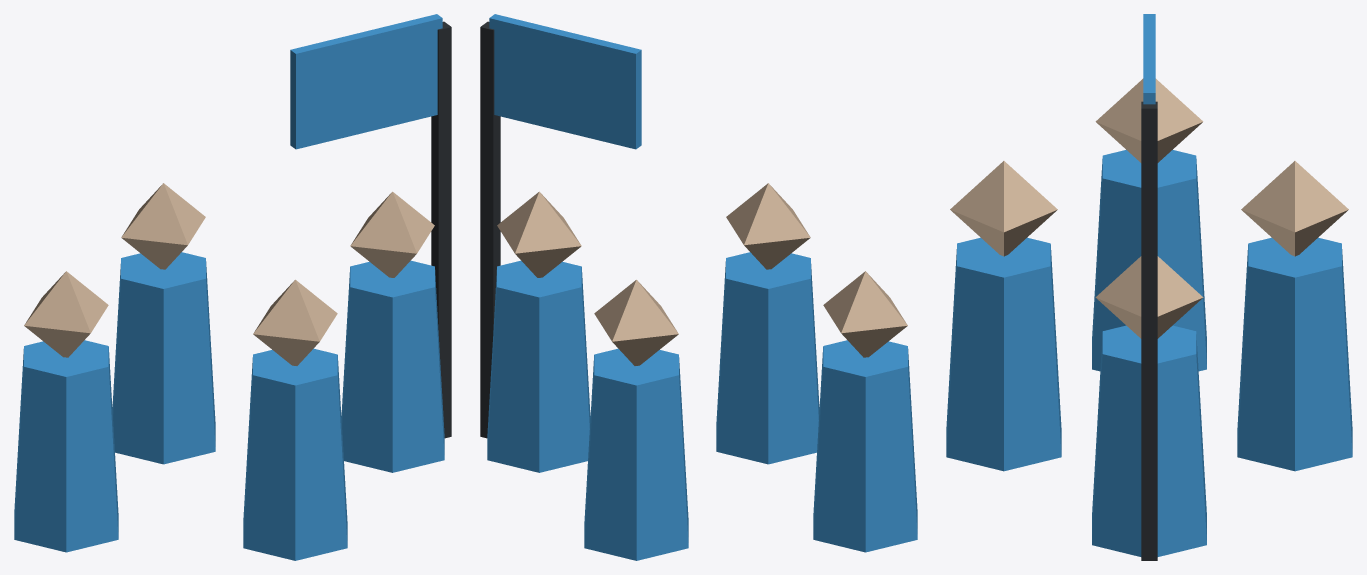
File: troop.glb
3 views of the same model, side by side, from view 1: azimuth 30°, elevation 25°; view 2: azimuth 150°, elevation 25°; view 3: azimuth 270°, elevation 25° (orthographic). The views are drawn at different scales.
Parts seen in each view (by area): view 1: troop; view 2: troop; view 3: troop.
Boxes of the visible parts, x1=… form: troop: x1=14, y1=14, x2=451, y2=560; troop: x1=480, y1=14, x2=917, y2=560; troop: x1=946, y1=14, x2=1352, y2=560.
Size of the model in its own units: 1.33 by 1.23 by 0.9771.
